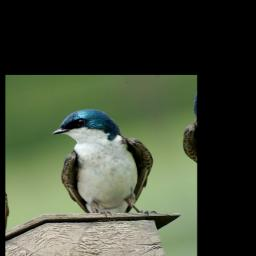Swallow: (39, 98, 171, 233)
